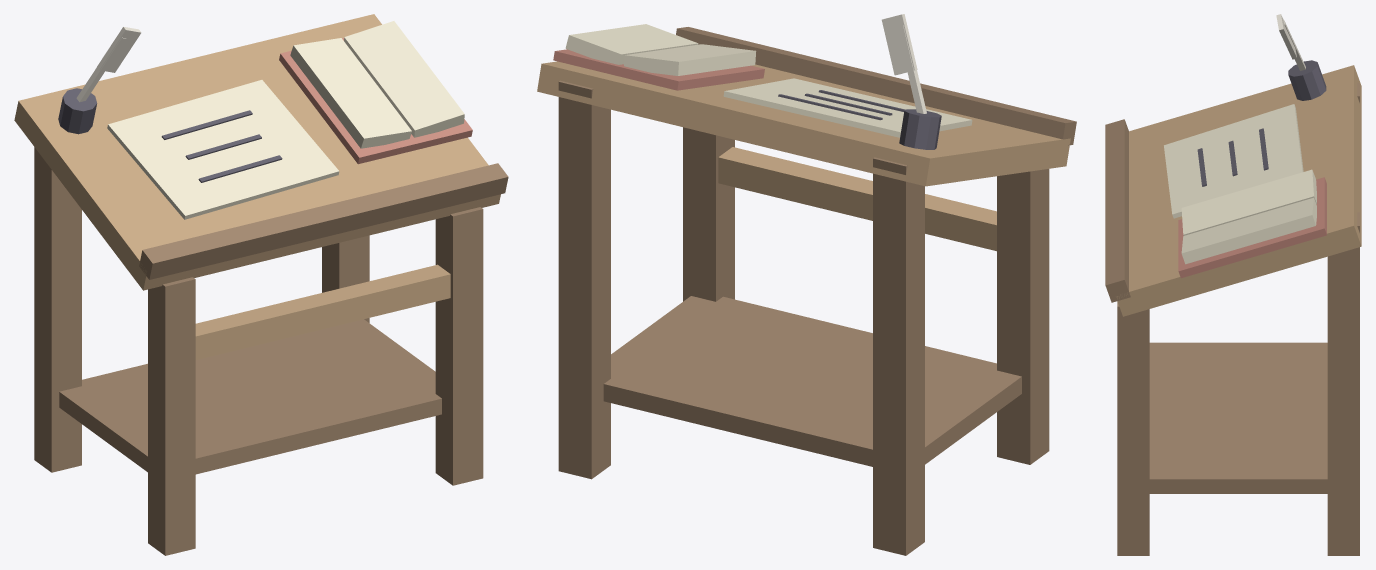
The model's file is furniture_scriptorium.glb.
3 views of the same model, side by side, from view 1: azimuth 30°, elevation 25°; view 2: azimuth 150°, elevation 25°; view 3: azimuth 270°, elevation 25° (orthographic). The views are drawn at different scales.
Parts seen in each view (by area): view 1: wood_dark, wood, parchment, cloth_red, ink, cloth; view 2: wood_dark, wood, parchment, cloth_red, ink, cloth; view 3: wood_dark, wood, parchment, cloth_red, ink, cloth.
Boxes of the visible parts, bbox=[...] form: wood_dark: bbox=[34, 147, 508, 555]; wood: bbox=[14, 14, 500, 359]; parchment: bbox=[107, 21, 464, 219]; cloth_red: bbox=[279, 38, 472, 164]; ink: bbox=[58, 88, 282, 182]; cloth: bbox=[76, 26, 141, 102]; wood_dark: bbox=[558, 27, 1076, 555]; wood: bbox=[537, 61, 1070, 251]; parchment: bbox=[565, 24, 972, 137]; cloth_red: bbox=[553, 49, 764, 90]; ink: bbox=[778, 90, 941, 149]; cloth: bbox=[881, 14, 926, 113]; wood_dark: bbox=[1105, 82, 1359, 555]; wood: bbox=[1116, 65, 1361, 316]; parchment: bbox=[1164, 104, 1316, 264]; cloth_red: bbox=[1178, 177, 1326, 278]; ink: bbox=[1197, 60, 1326, 186]; cloth: bbox=[1276, 14, 1305, 70].
Size of the model in its own units: 0.95 by 1.14 by 0.6333.
